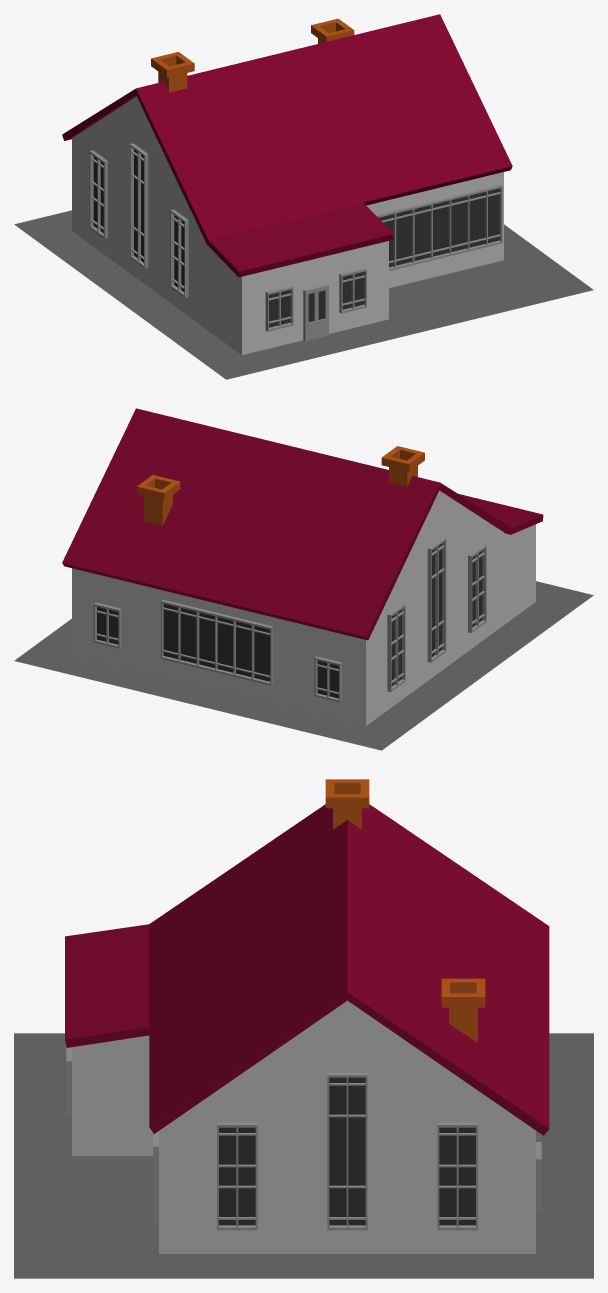
File: house_05.fbx
3 views of the same model, one above another, from view 1: azimuth 30°, elevation 25°; view 2: azimuth 150°, elevation 25°; view 3: azimuth 270°, elevation 25° (orthographic). The views are drawn at different scales.
Parts seen in each view (by area): view 1: house_05; view 2: house_05; view 3: house_05.
Part boxes in pixels (x1=…): house_05: x1=14, y1=14, x2=593, y2=379; house_05: x1=14, y1=408, x2=593, y2=750; house_05: x1=14, y1=779, x2=593, y2=1278.
Bounding box in the file's own units: 20 × 11.06 × 20.
